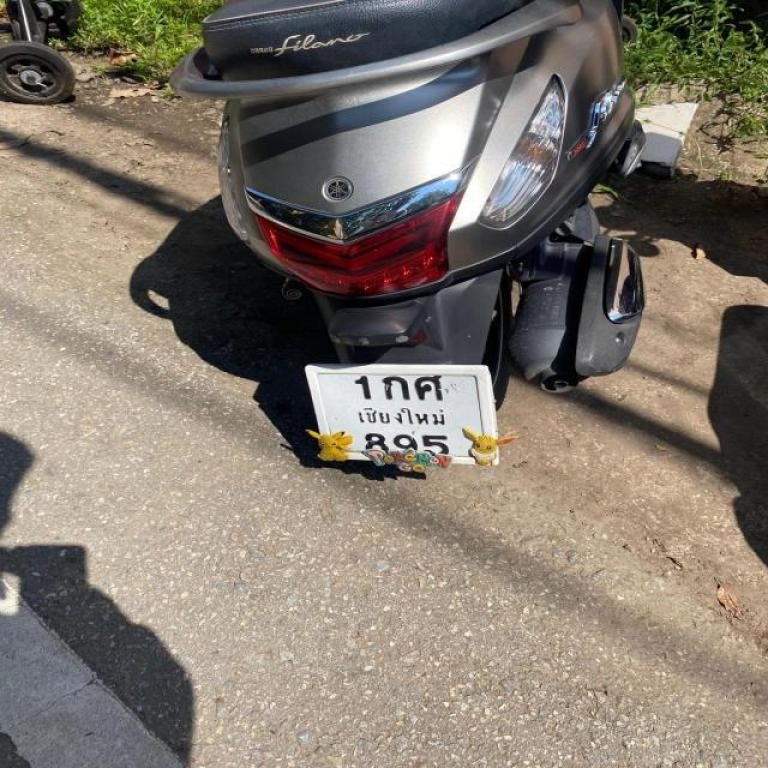license plate: (306, 362, 516, 473)
